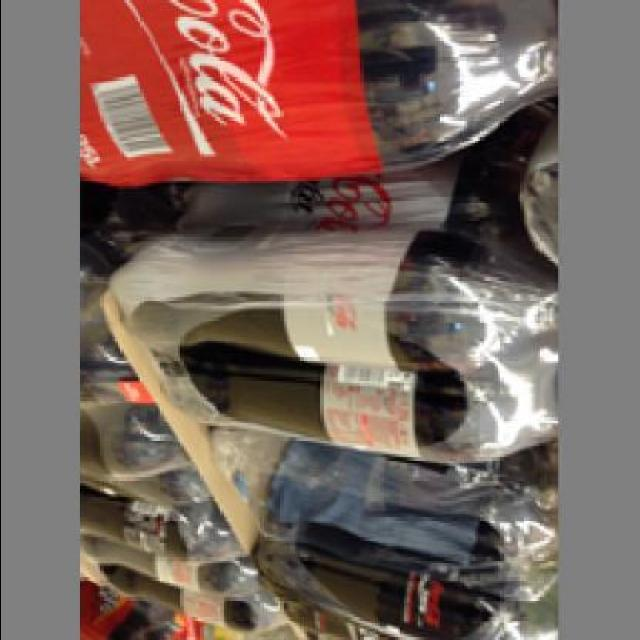Coke: (89, 3, 560, 186), (111, 223, 560, 371), (157, 343, 560, 463)
